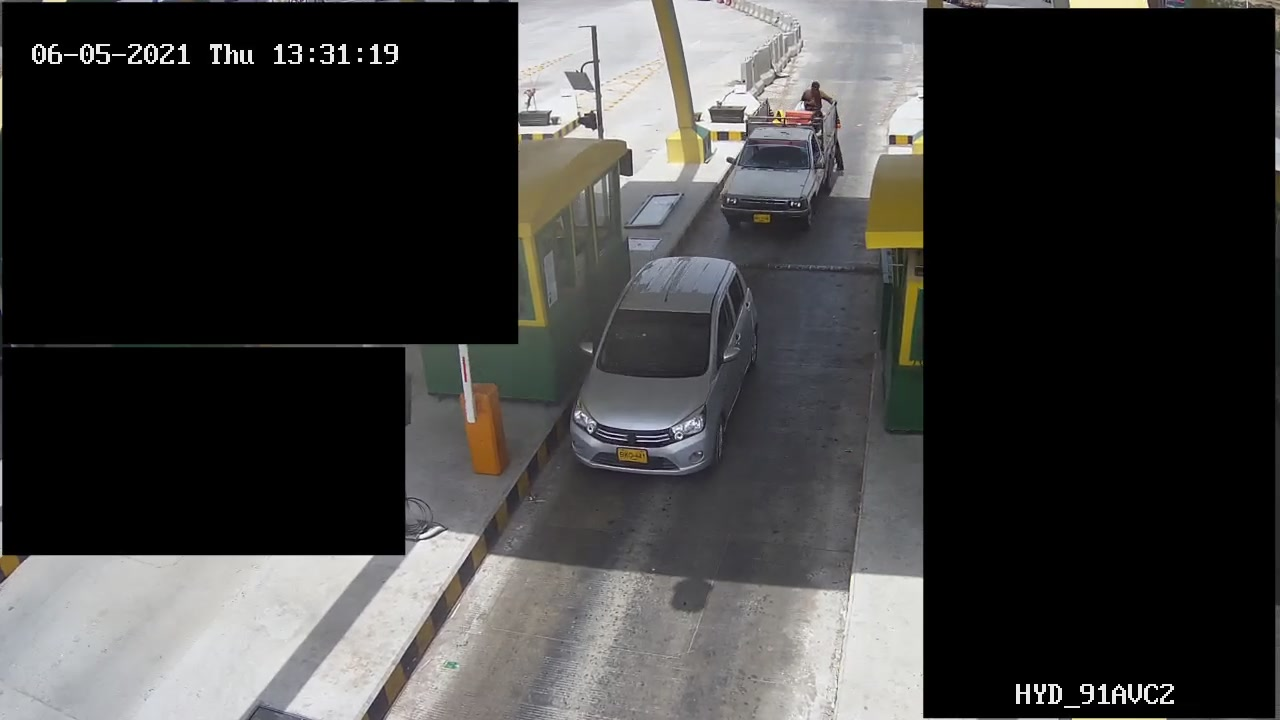F1: (566, 251, 773, 484), (716, 92, 844, 234)
